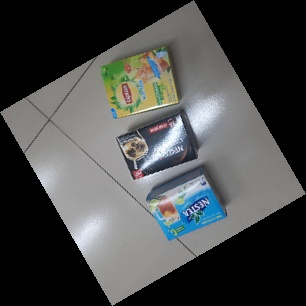CF Viet: (114, 110, 200, 182)
LipTon: (99, 44, 181, 122)
Nestea: (145, 165, 228, 241)
